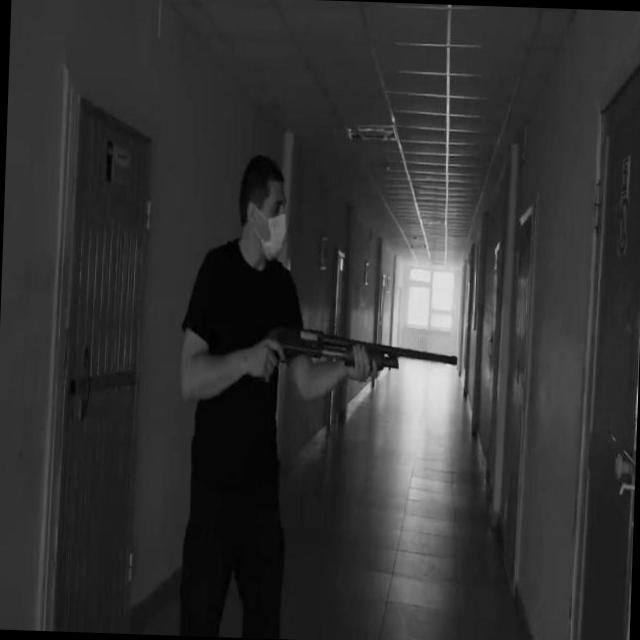gun: (264, 320, 459, 388)
person with a gun: (170, 150, 469, 640)
